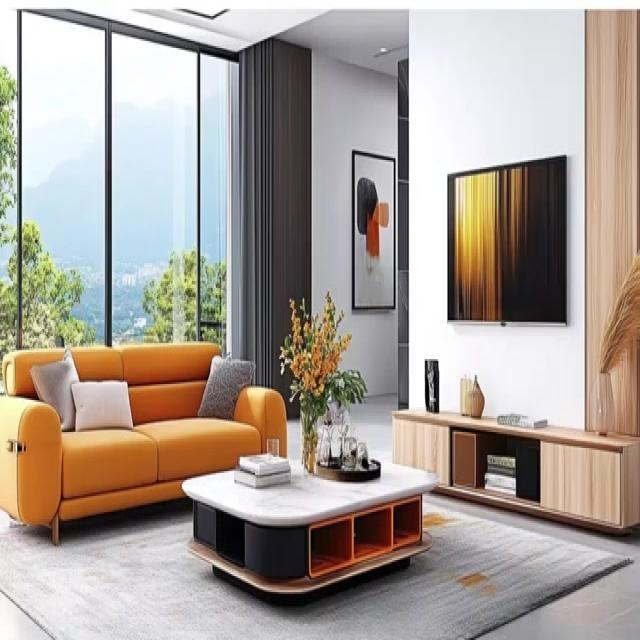obstacle: (0, 340, 287, 544), (181, 453, 439, 601), (391, 407, 639, 535)
